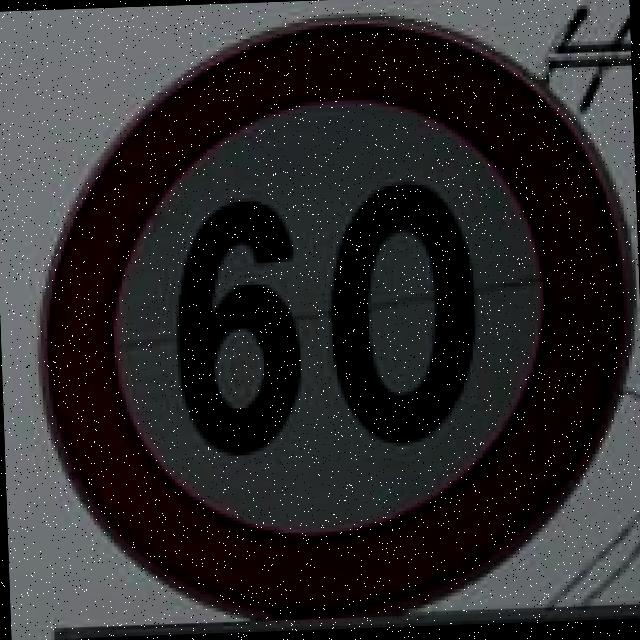Ograniczenie predkosci do 60: (26, 8, 634, 620)
